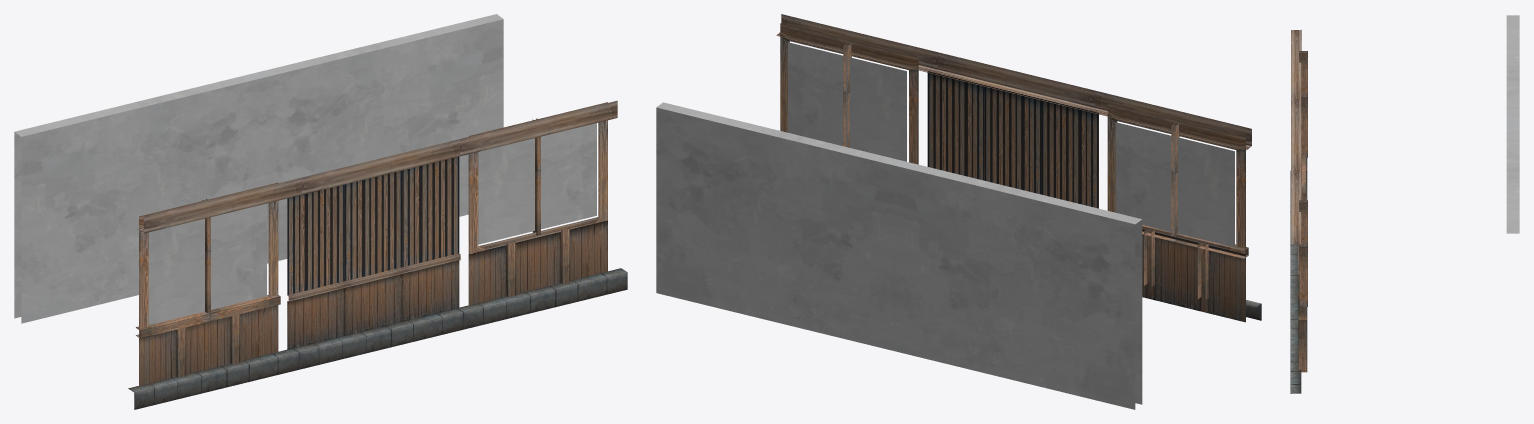
Rendered from 房子前后.fbx.
The picture shows the model from 3 angles, left to right: view 1: azimuth 30°, elevation 25°; view 2: azimuth 150°, elevation 25°; view 3: azimuth 270°, elevation 25°; orthographic projection. The views are drawn at different scales.
Visible parts, largest first — view 1: Box162, Box082, 对象001, 对象007; view 2: Box162, Box082, 对象001, 对象007; view 3: Box082, Box162.
Part boxes in pixels (x1,y1,x2,y2): Box162: (14,14,503,323); Box082: (128,100,627,409); 对象001: (148,203,266,324); 对象007: (478,123,596,244); Box162: (656,102,1142,409); Box082: (776,14,1261,322); 对象001: (1115,122,1234,247); 对象007: (788,42,906,161); Box082: (1290,29,1307,393); Box162: (1506,15,1519,233).
Bounding box in the file's own units: 1297 × 480 × 563.
